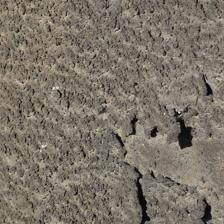Crack: (23, 51, 132, 162), (89, 44, 135, 109), (58, 86, 114, 133)
